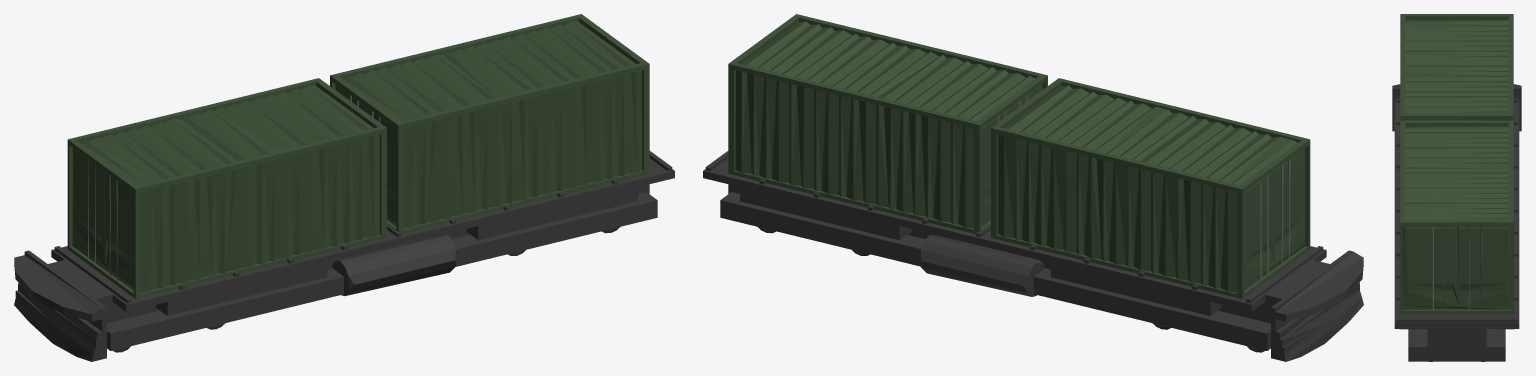
The model's file is cargo_box.glb.
The picture shows the model from 3 angles, left to right: view 1: azimuth 30°, elevation 25°; view 2: azimuth 150°, elevation 25°; view 3: azimuth 270°, elevation 25°; orthographic projection. The views are drawn at different scales.
Visible parts, largest first — view 1: Wagon_Container; view 2: Wagon_Container; view 3: Wagon_Container.
Boxes of the visible parts, bbox=[...] form: Wagon_Container: bbox=[14, 14, 674, 361]; Wagon_Container: bbox=[703, 14, 1363, 361]; Wagon_Container: bbox=[1392, 14, 1521, 361].
Bounding box in the file's own units: 9.26 × 2.58 × 2.06.
